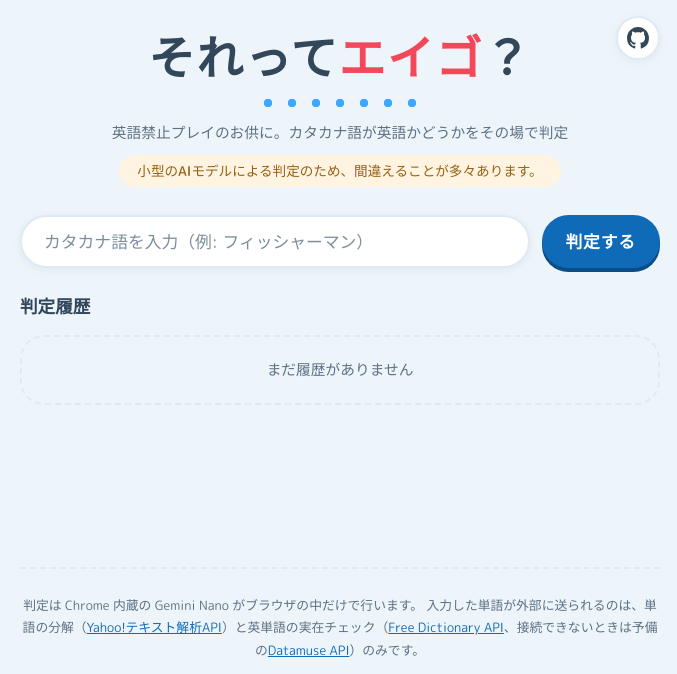
Scenario: App › 判定に失敗したらエラーメッセージを表示する
Type "コントロール" into the field.
click(275, 242); type("コントロール")  # box 20,215 -> 530,268
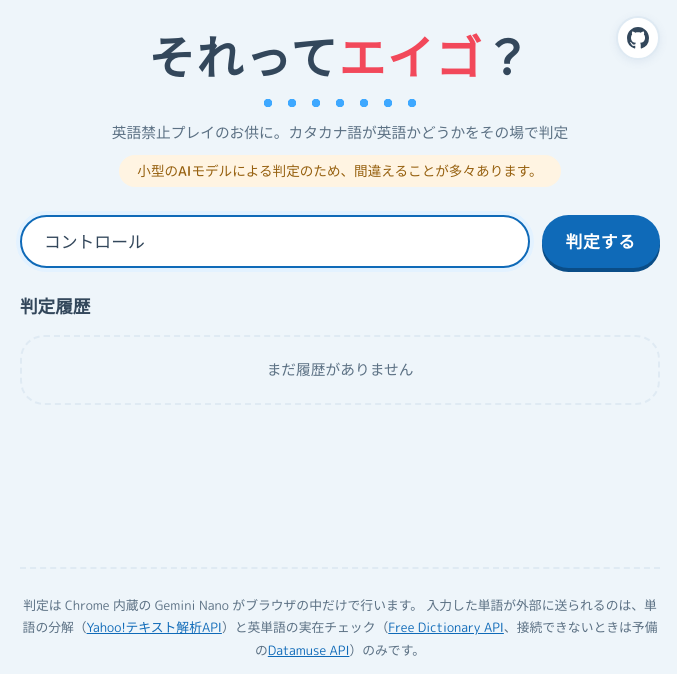
Click the button "判定する".
click(601, 242)  # box 542,215 -> 660,268
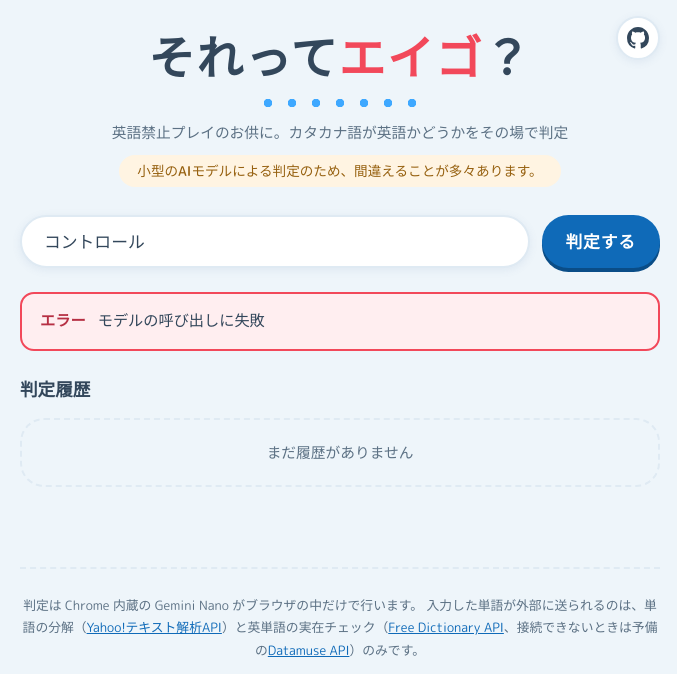
Expected: the message shows "モデルの呼び出しに失敗", 98,310 -> 265,331
